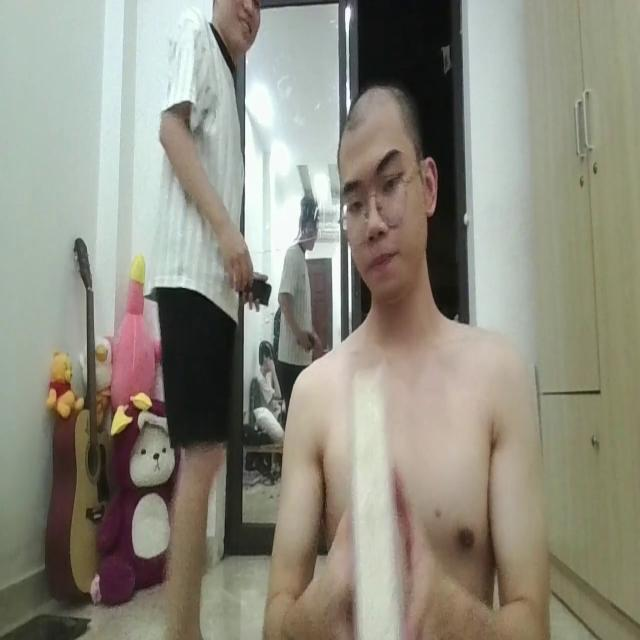book: (346, 346, 407, 640)
extra_person: (138, 0, 268, 640)
student: (265, 99, 564, 640)
